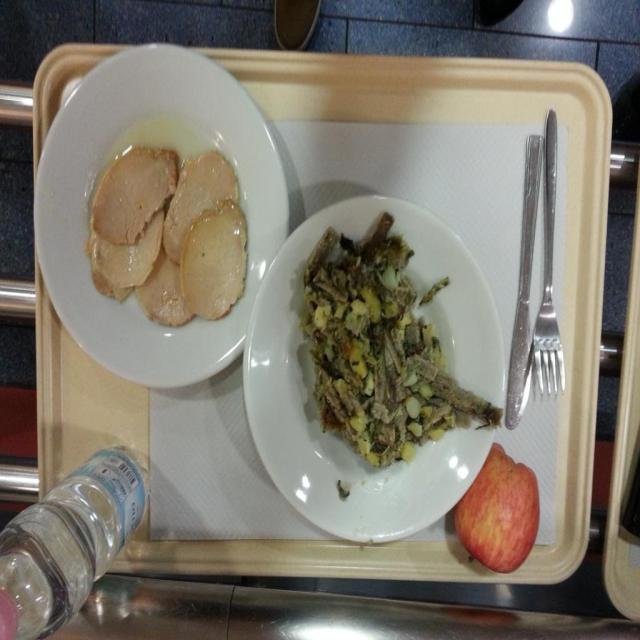plate: (32, 42, 294, 390), (244, 197, 505, 545), (456, 439, 538, 574)
